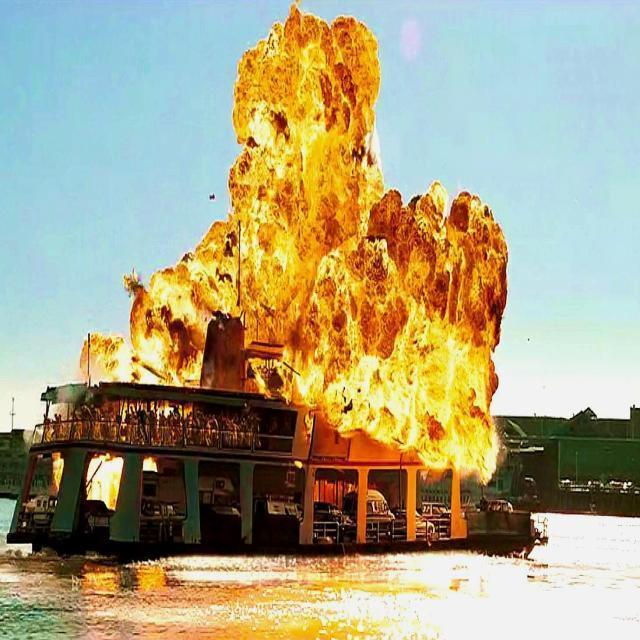fire: (79, 6, 512, 488)
